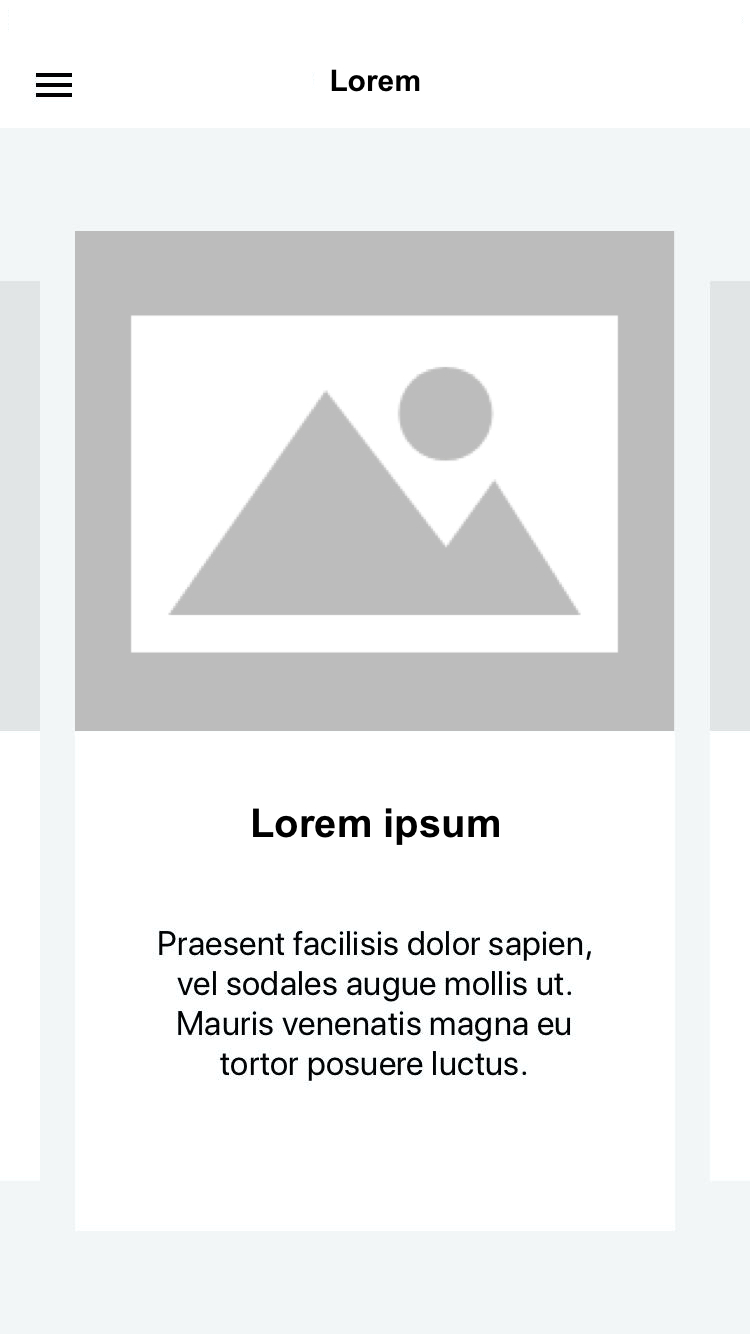Icon: (36, 73, 74, 99)
Image: (76, 231, 675, 732)
Text: (159, 930, 592, 1083), (252, 807, 500, 846), (331, 69, 421, 93)
